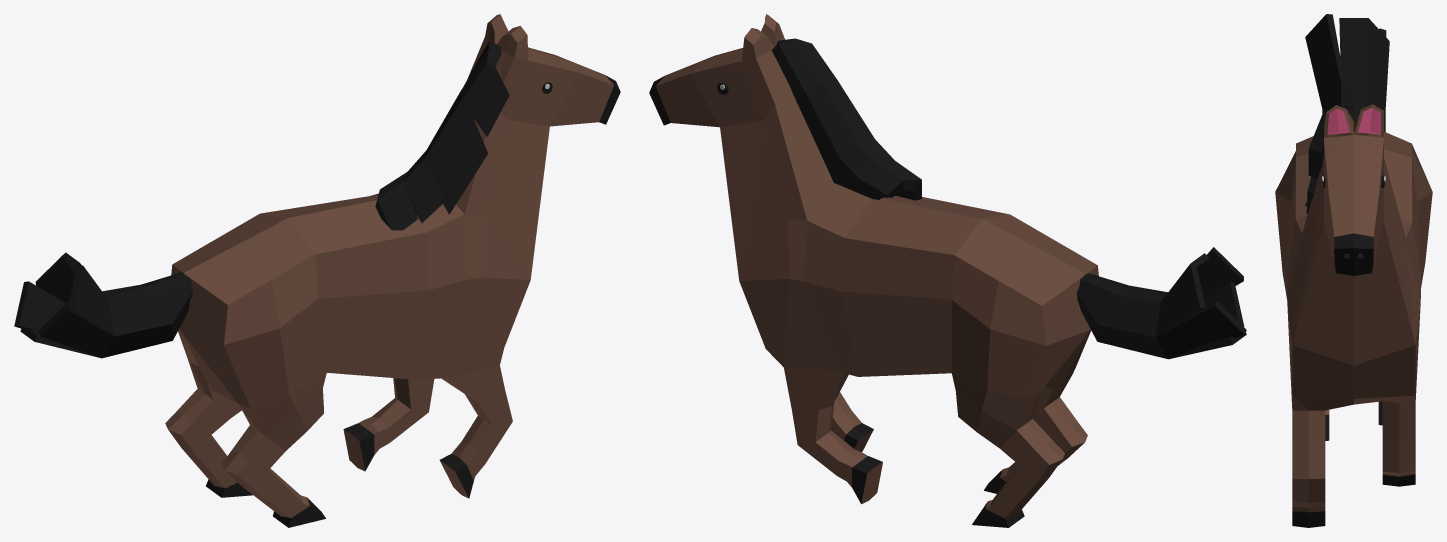
The model's file is horse_f.fbx.
3 views of the same model, side by side, from view 1: azimuth 30°, elevation 25°; view 2: azimuth 150°, elevation 25°; view 3: azimuth 270°, elevation 25° (orthographic). The views are drawn at different scales.
Visible parts, largest first — view 1: Cube.027; view 2: Cube.027; view 3: Cube.027.
Boxes of the visible parts, x1,y1,x2,y2 form: Cube.027: [14, 14, 620, 527]; Cube.027: [649, 14, 1246, 527]; Cube.027: [1275, 14, 1432, 527].
Bounding box in the file's own units: 1 × 0.7079 × 0.2198.
